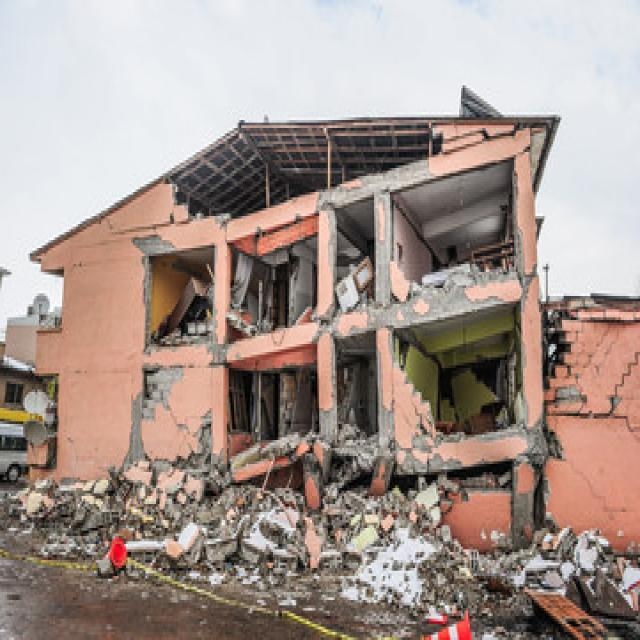Destroyed_building: (85, 1, 587, 640)
